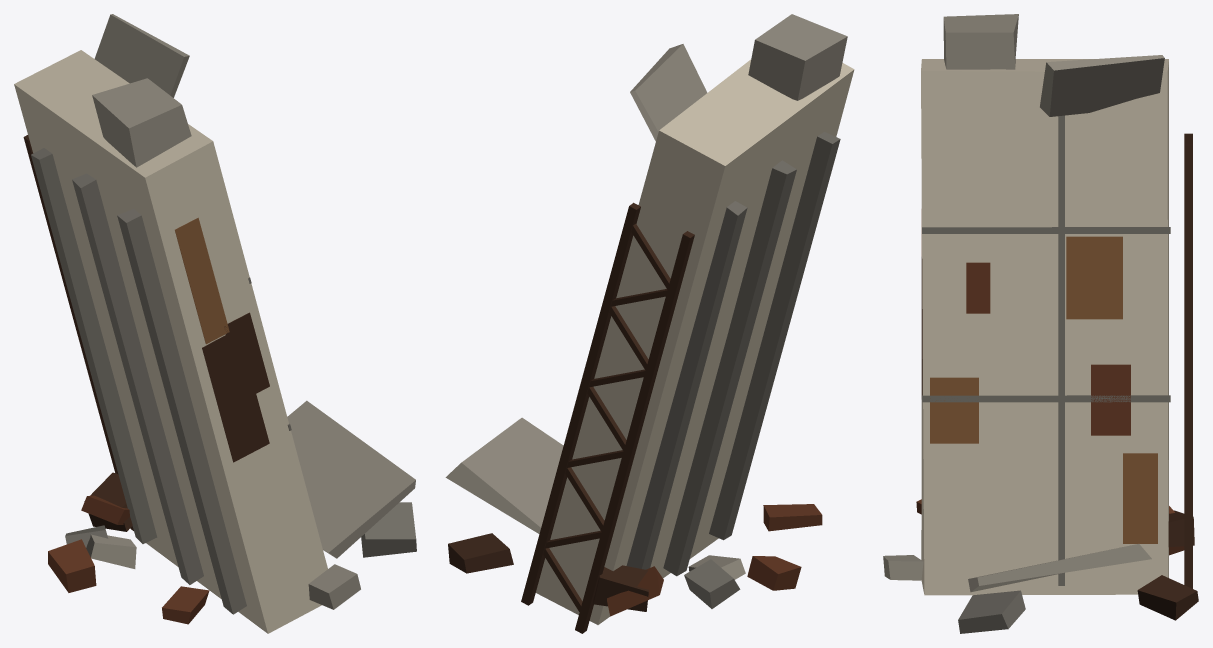
File: hull_tower.glb
The picture shows the model from 3 angles, left to right: view 1: azimuth 30°, elevation 25°; view 2: azimuth 150°, elevation 25°; view 3: azimuth 270°, elevation 25°; orthographic projection. The views are drawn at different scales.
Visible parts, largest first — view 1: hull_tower; view 2: hull_tower; view 3: hull_tower.
Part boxes in pixels (left/top/right/bottom): hull_tower: left=14, top=14, right=416, bottom=633; hull_tower: left=445, top=14, right=854, bottom=633; hull_tower: left=883, top=14, right=1198, bottom=633.
Size of the model in its own units: 18.78 by 29.86 by 16.62.
